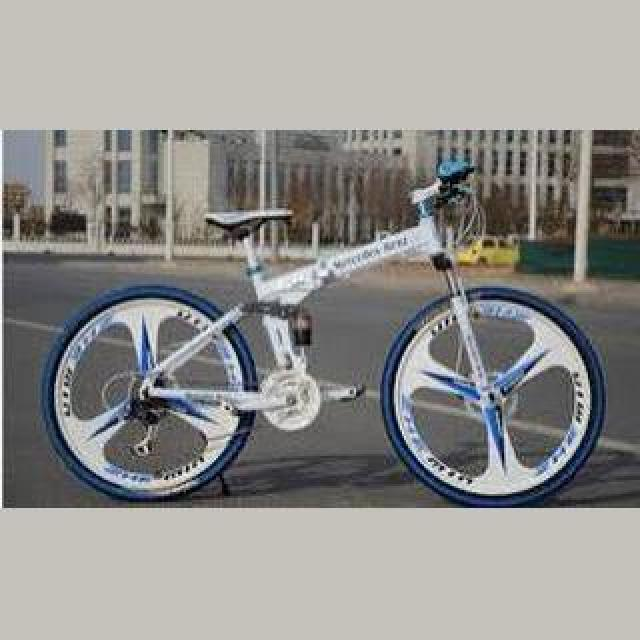Person: (44, 162, 610, 508)
